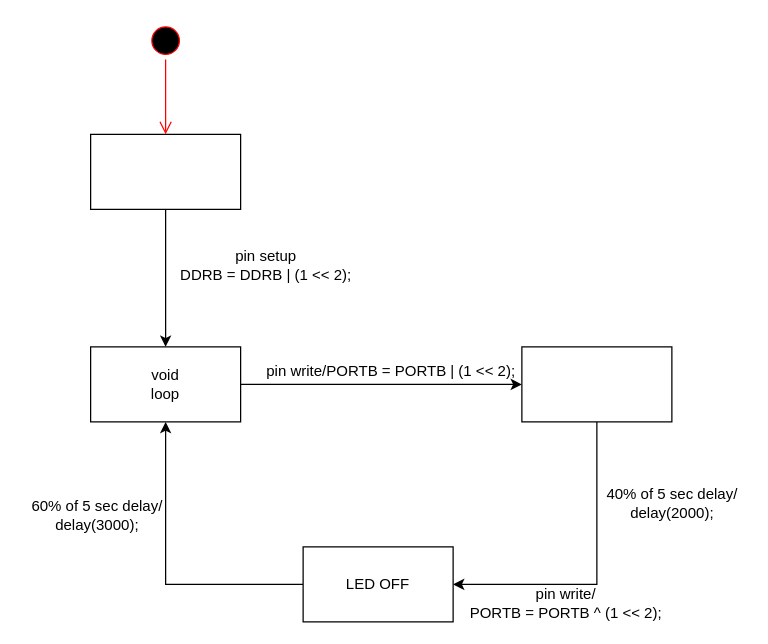
Image size: 768x644. Some labels were removed from this diagram. Each missing label, with the box of its shape:
LED ON: (521, 346, 672, 422)
void setup: (89, 133, 241, 209)
